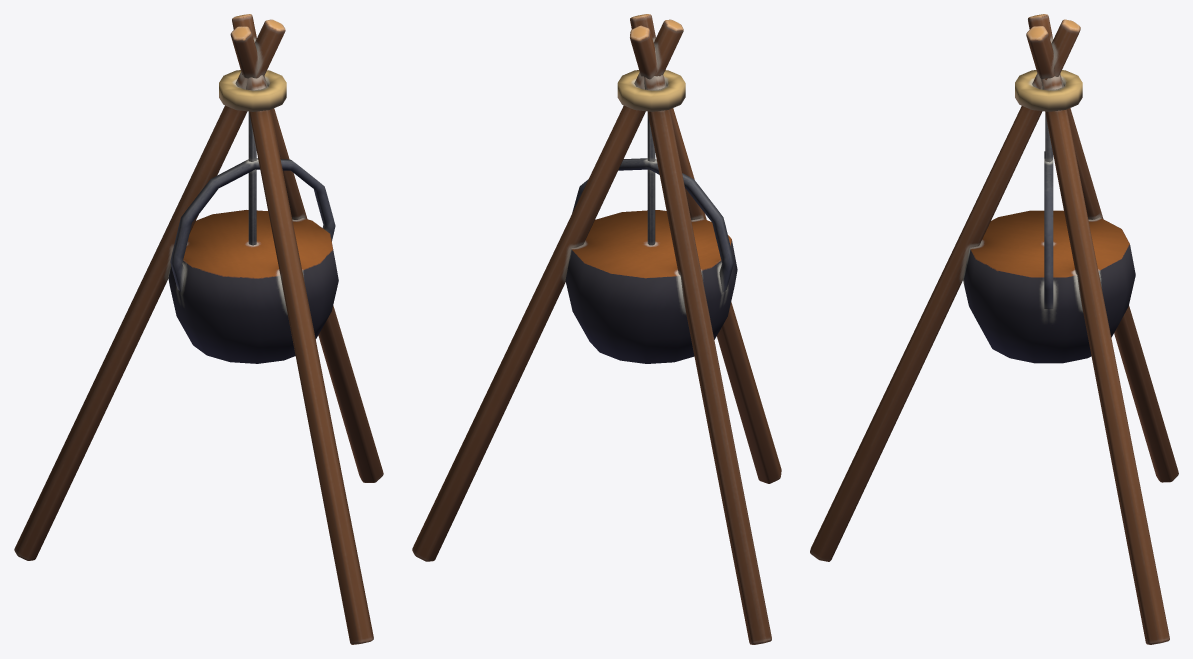
File: cook_tripod.glb
3 renders of one model, left to right at view 1: azimuth 30°, elevation 25°; view 2: azimuth 150°, elevation 25°; view 3: azimuth 270°, elevation 25°, orthographic.
Visible parts, largest first — view 1: cook_tripod; view 2: cook_tripod; view 3: cook_tripod.
Boxes of the visible parts, x1,y1,x2,y2 form: cook_tripod: (14,14,383,644); cook_tripod: (412,14,781,644); cook_tripod: (810,14,1178,644).
Size of the model in its own units: 1.13 by 1.62 by 1.
Materials: 1 (1 with a texture image).
